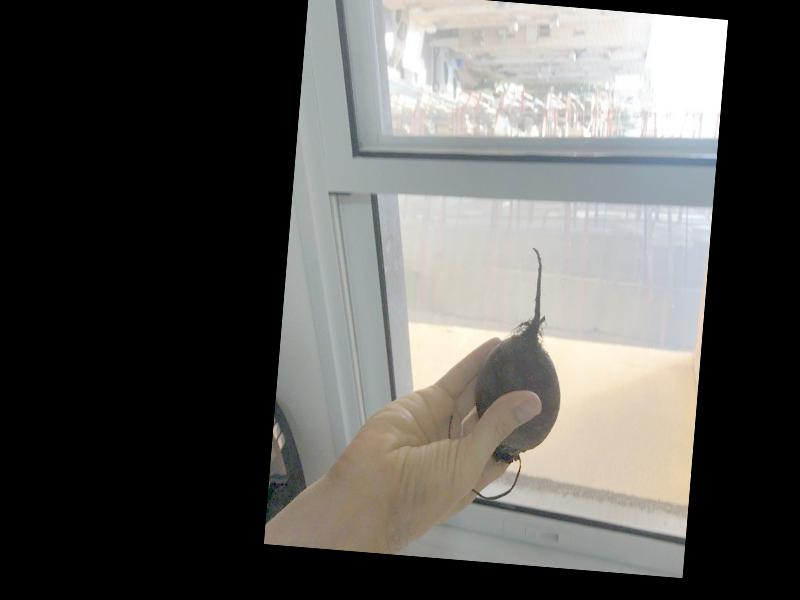Beet: (441, 241, 572, 504)
